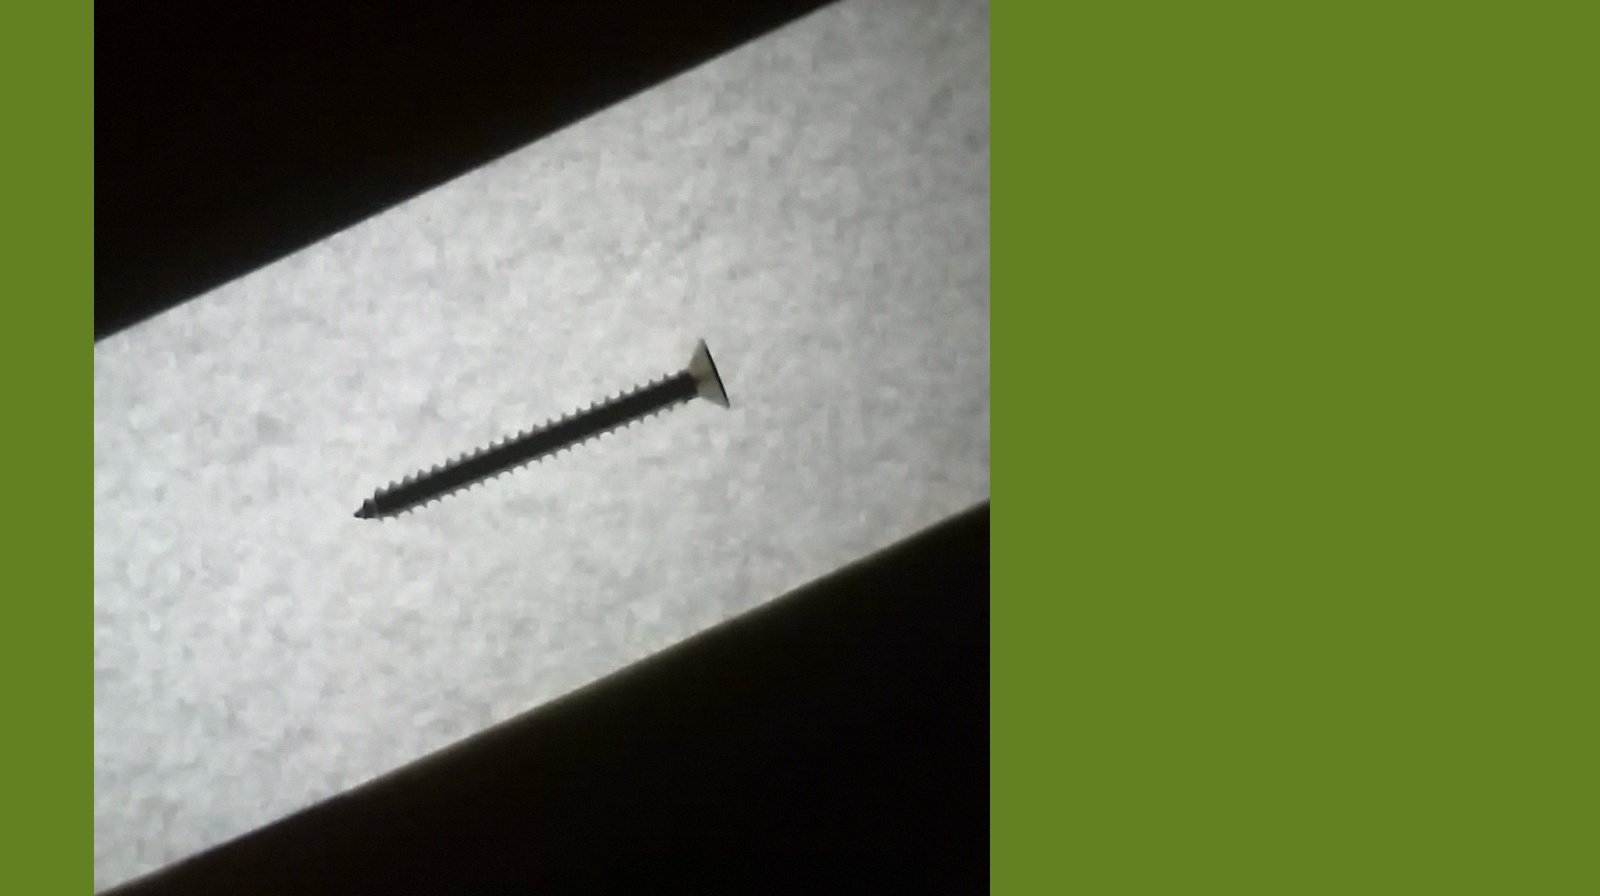S002: (348, 330, 736, 541)
